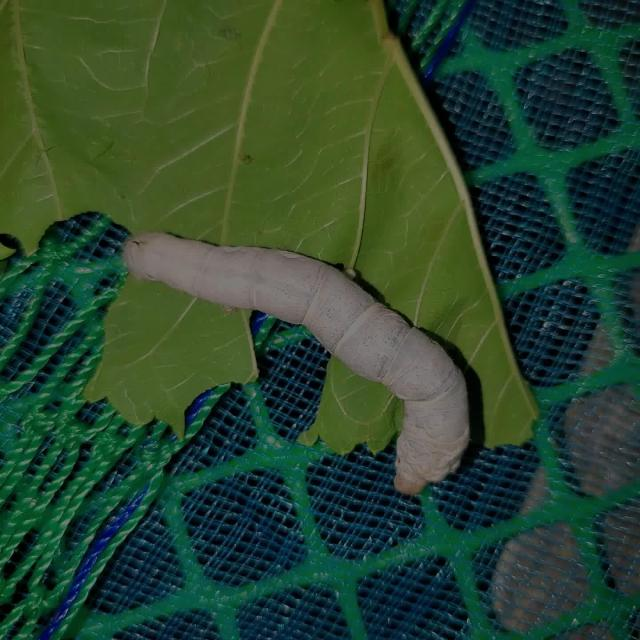Healthy: (118, 222, 476, 498)
